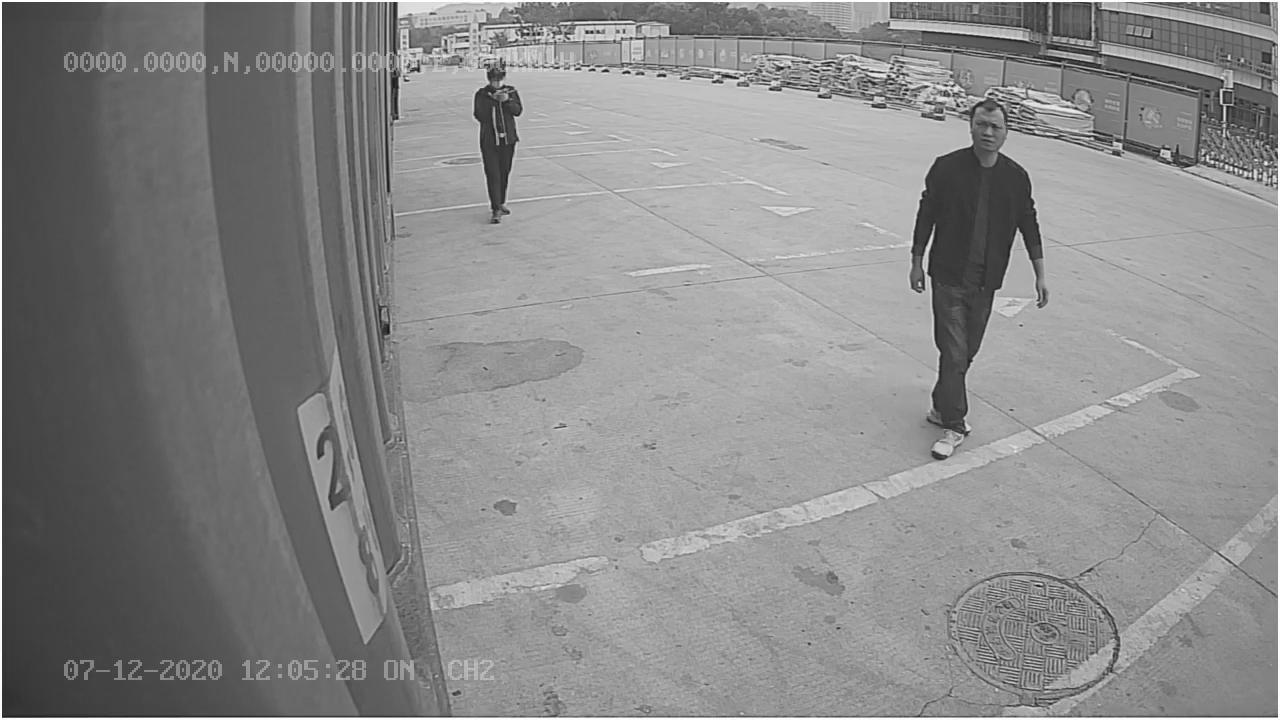person: (897, 96, 1051, 465)
